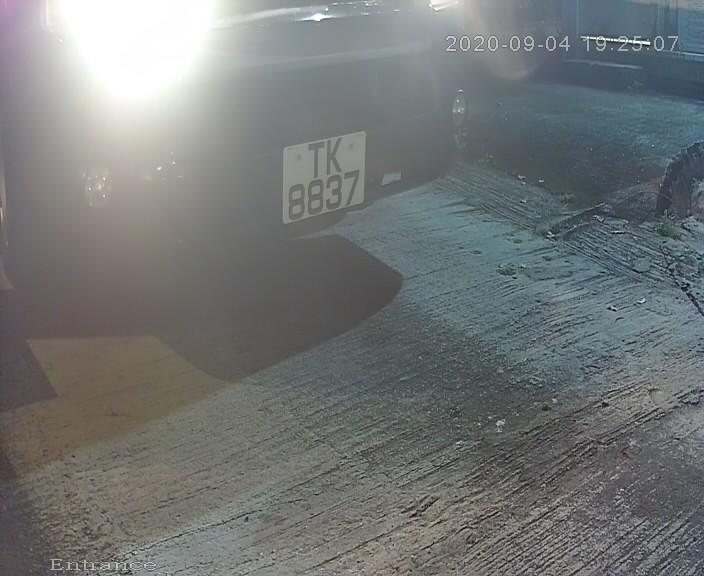License Plate: (271, 114, 375, 235)
